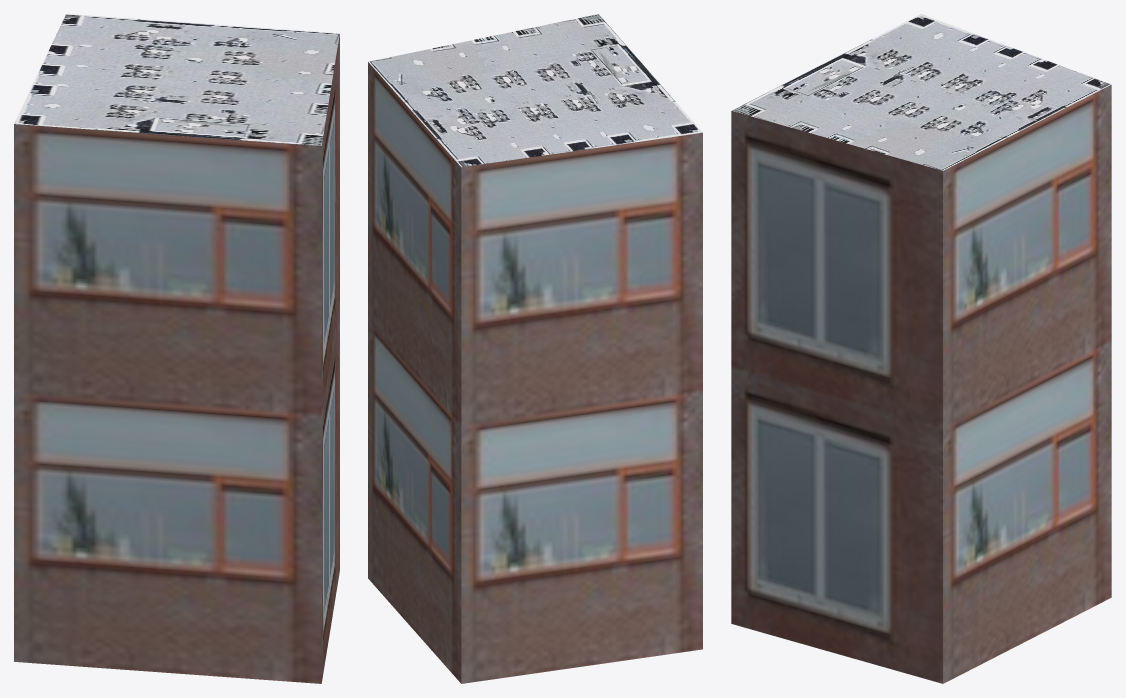
Rendered from ResTex__5197.fbx.
The picture shows the model from 3 angles, left to right: view 1: azimuth 30°, elevation 25°; view 2: azimuth 150°, elevation 25°; view 3: azimuth 270°, elevation 25°; orthographic projection. The views are drawn at different scales.
Visible parts, largest first — view 1: CityEngineMaterial_19_m, CityEngineMaterial_15_m; view 2: CityEngineMaterial_19_m, CityEngineMaterial_15_m; view 3: CityEngineMaterial_19_m, CityEngineMaterial_15_m.
Boxes of the visible parts, box(x1,y1,x2,y2) form: CityEngineMaterial_19_m: box(14, 34, 339, 683); CityEngineMaterial_15_m: box(14, 14, 339, 145); CityEngineMaterial_19_m: box(368, 62, 702, 683); CityEngineMaterial_15_m: box(368, 14, 702, 167); CityEngineMaterial_19_m: box(731, 85, 1111, 683); CityEngineMaterial_15_m: box(731, 14, 1111, 170).
Bounding box in the file's own units: 3.94 × 6 × 4.03.
2 materials, 2 textured.
